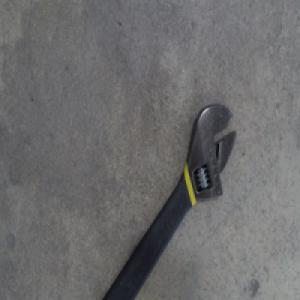AdjustableWrench: (102, 103, 238, 299)
